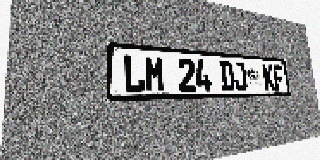2: (178, 58, 196, 92)
4: (194, 59, 212, 92)
D: (219, 61, 235, 91)
F: (272, 65, 285, 90)
J: (233, 62, 248, 91)
K: (262, 64, 275, 90)
L: (123, 54, 145, 93)
M: (144, 55, 165, 92)
